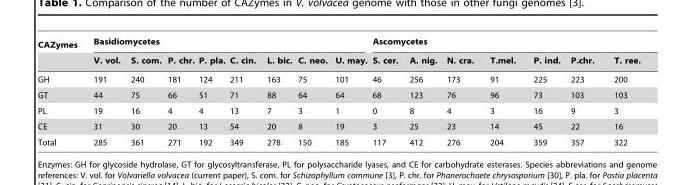table: (36, 36, 639, 146)
table column: (36, 36, 84, 146), (481, 36, 523, 146), (523, 36, 564, 146), (84, 36, 124, 146), (441, 36, 481, 146), (124, 36, 163, 146), (330, 36, 369, 146), (564, 36, 603, 146), (403, 36, 441, 146), (294, 36, 330, 146), (603, 36, 639, 146), (226, 36, 260, 146), (260, 36, 294, 146), (369, 36, 403, 146), (163, 36, 195, 146), (195, 36, 226, 146)
table column header: (36, 36, 639, 69)
table row: (36, 69, 639, 87), (36, 52, 639, 69), (36, 36, 639, 52), (36, 102, 639, 118), (36, 118, 639, 134), (36, 87, 639, 102), (36, 134, 639, 146)
table spanning cell: (84, 36, 369, 52), (369, 36, 639, 52), (36, 36, 84, 69)
